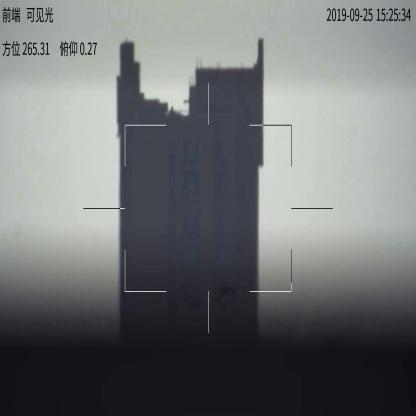uav: (218, 282, 236, 298)
